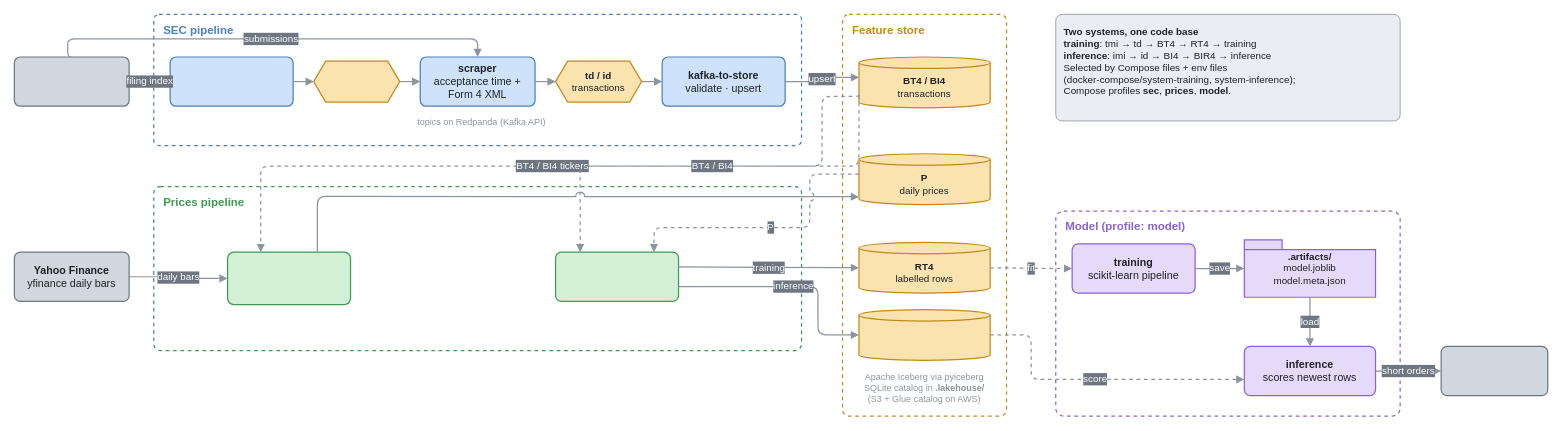
Image size: 1563x431. Some labels were removed from this diagram. Here are the shapes that lost their labels. From the top down, the centre of each, then its label:
(71,81): SEC EDGAR master index · Atom feed
(231,81): master-index discovers Form 4 filings
(356,81): tmi / imi filings
(289,278): yahoo_connect bars for the transactions' tickers
(617,276): target model rows + labels
(924,335): BIR4 inference rows
(1494,370): Alpaca paper trading
